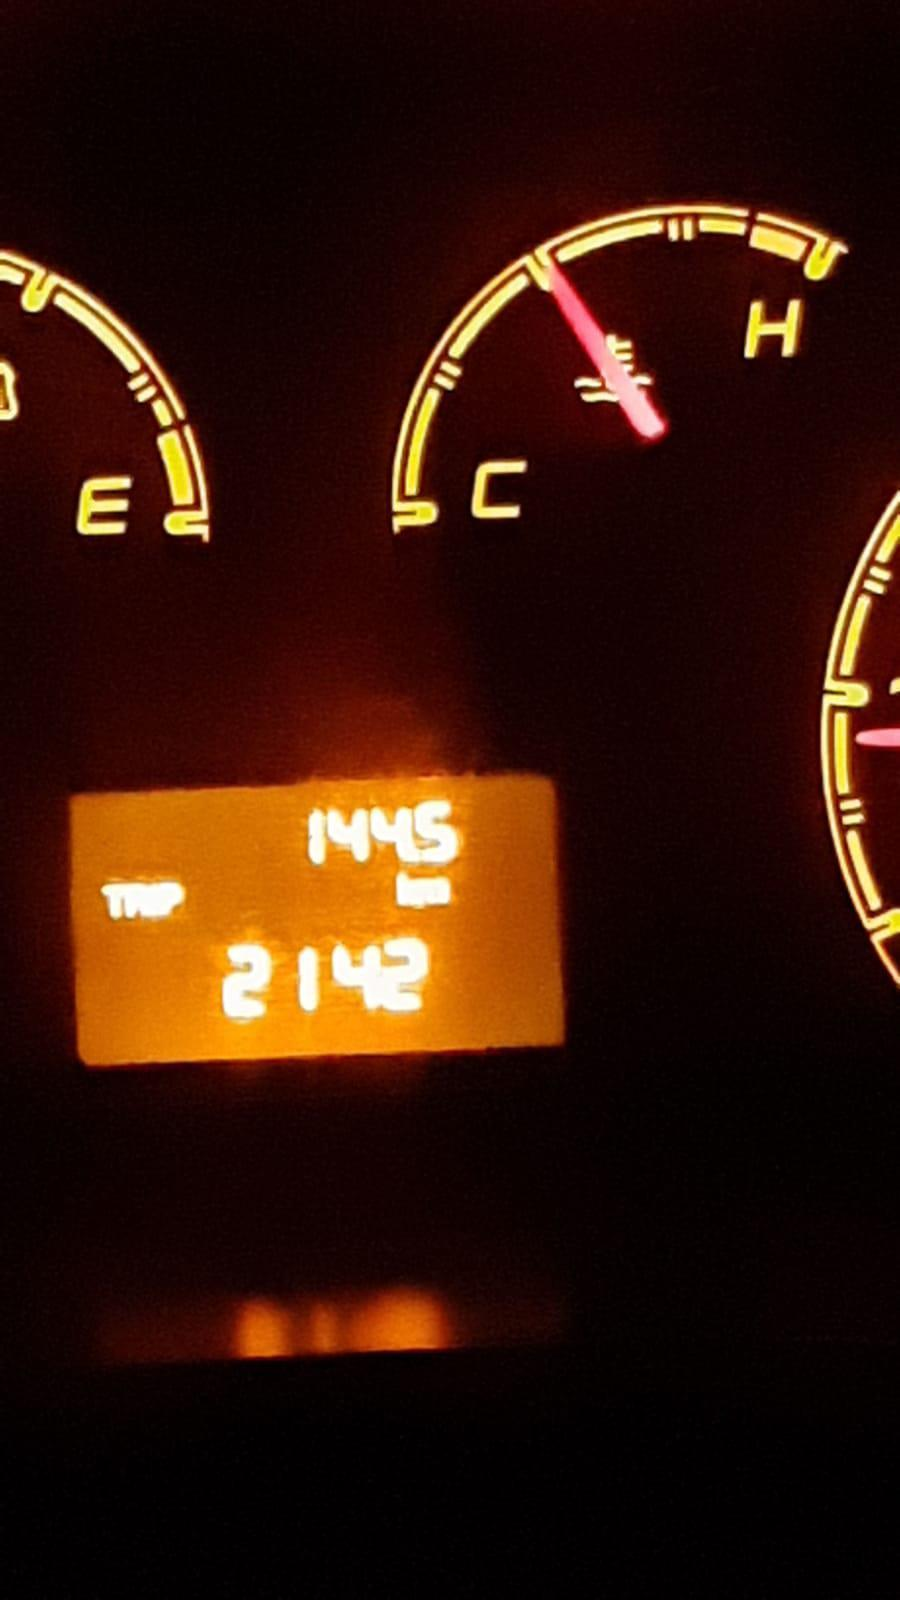1: (295, 942, 320, 1014), (304, 807, 327, 866)
2: (220, 942, 274, 1020), (380, 936, 431, 1009)
4: (329, 942, 382, 1011), (369, 805, 414, 862), (327, 805, 369, 863)
5: (414, 799, 459, 864)
X: (419, 873, 452, 908), (395, 869, 419, 909), (124, 882, 149, 919), (100, 884, 124, 921), (162, 880, 186, 916), (149, 881, 160, 919)
odometer: (60, 767, 575, 1076)
